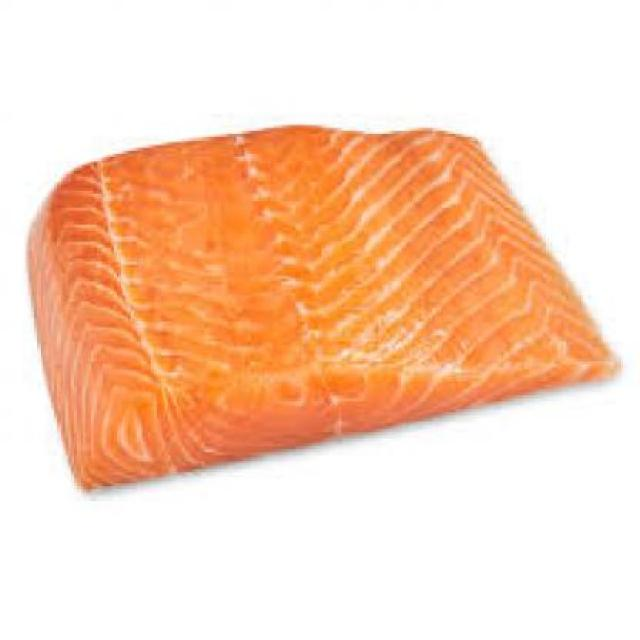salmon: (23, 114, 638, 523)
